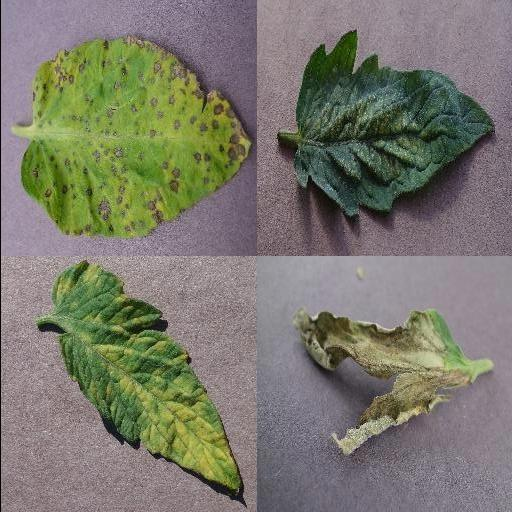Late Blight: (290, 308, 466, 456)
Leaf Mold: (48, 262, 240, 496)
Septoria: (20, 38, 252, 238)
Spider Mites: (292, 30, 496, 220)
